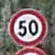limite 50: (7, 7, 48, 45)
